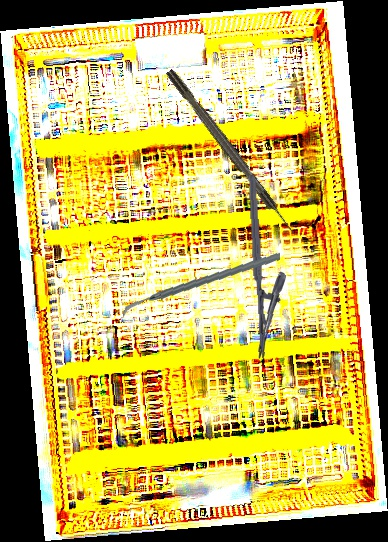Chopper: (122, 238, 281, 332)
Hook Surgical: (165, 67, 298, 238)
Needle Holder: (247, 173, 291, 359)
